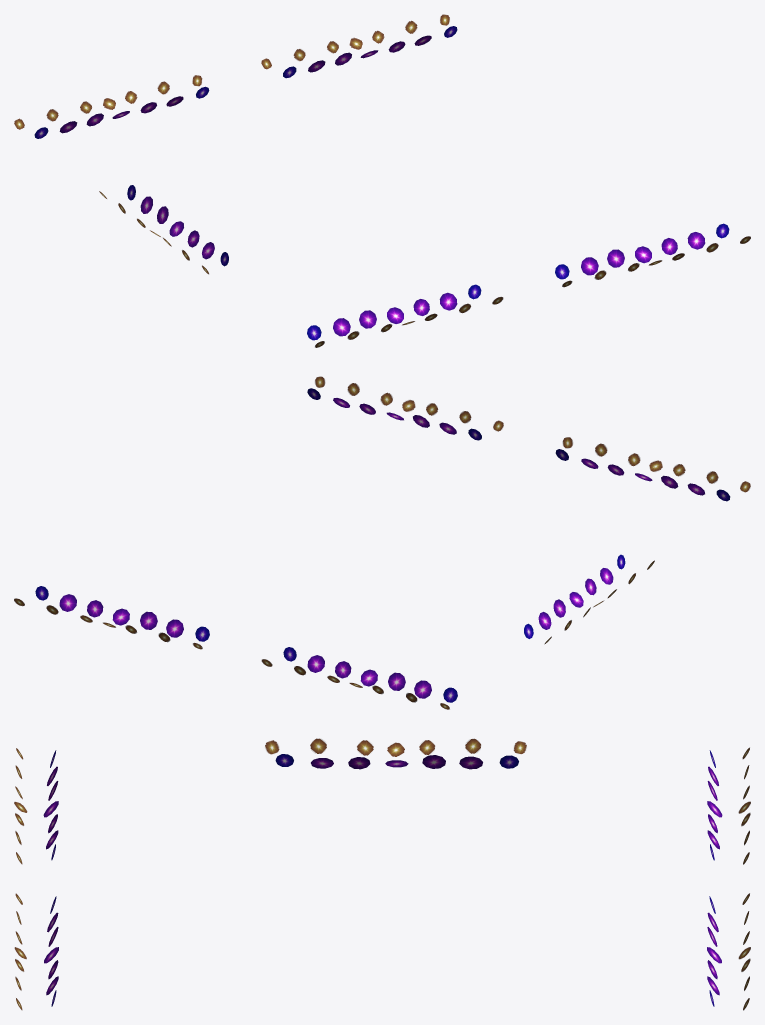
File: SpotLight_Flares.FBX
3 renders of one model, top to bottom at view 1: azimuth 30°, elevation 25°; view 2: azimuth 150°, elevation 25°; view 3: azimuth 270°, elevation 25°, orthographic. The views are drawn at different scales.
Parts seen in each view (by area): view 1: SpotLight_Flare_Right01, SpotLight_Flare_Right02, SpotLight_Flare_Front01, SpotLight_Flare_Left04, SpotLight_Flare_Left03, SpotLight_Flare_Left01, SpotLight_Flare_Left02; view 2: SpotLight_Flare_Left02, SpotLight_Flare_Left01, SpotLight_Flare_Front01, SpotLight_Flare_Right03, SpotLight_Flare_Right04, SpotLight_Flare_Right01, SpotLight_Flare_Right02; view 3: SpotLight_Flare_Front01, SpotLight_Flare_Front02, SpotLight_Flare_Left02, SpotLight_Flare_Right02, SpotLight_Flare_Right01, SpotLight_Flare_Left01.
Part boxes in pixels (x1,y1,x2,y2): SpotLight_Flare_Right01: (307, 284, 481, 340); SpotLight_Flare_Right02: (555, 223, 729, 279); SpotLight_Flare_Front01: (127, 185, 228, 266); SpotLight_Flare_Left04: (14, 75, 202, 129); SpotLight_Flare_Left03: (261, 14, 450, 69); SpotLight_Flare_Left01: (34, 86, 209, 138); SpotLight_Flare_Left02: (283, 26, 457, 78); SpotLight_Flare_Left02: (35, 586, 209, 641); SpotLight_Flare_Left01: (283, 647, 457, 702); SpotLight_Flare_Front01: (524, 554, 625, 638); SpotLight_Flare_Right03: (314, 376, 503, 431); SpotLight_Flare_Right04: (562, 437, 750, 492); SpotLight_Flare_Right01: (555, 449, 730, 501); SpotLight_Flare_Right02: (307, 388, 481, 440); SpotLight_Flare_Front01: (275, 754, 518, 769); SpotLight_Flare_Front02: (264, 738, 527, 756); SpotLight_Flare_Left02: (707, 896, 721, 1006); SpotLight_Flare_Right02: (44, 896, 58, 1006); SpotLight_Flare_Right01: (43, 750, 58, 860); SpotLight_Flare_Left01: (707, 750, 722, 860).
Bounding box in the file's own units: 24509 × 869 × 29089.
3 materials, 3 textured.
